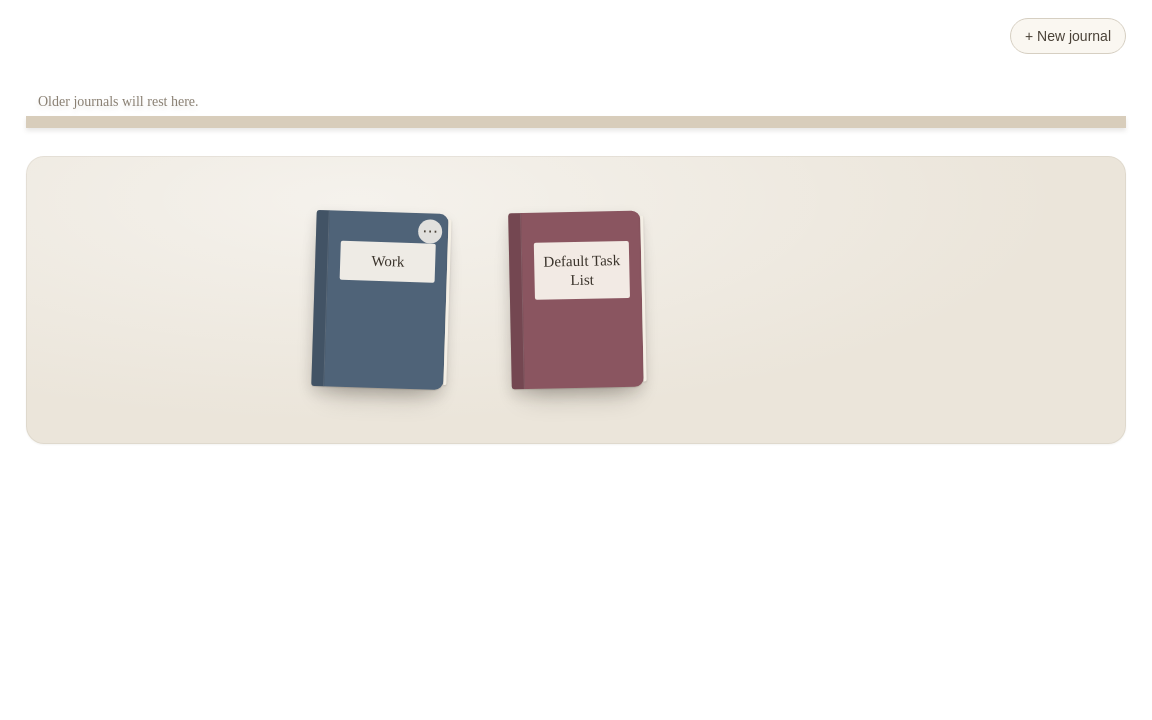
Test case: deleting journals › confirming deletes the journal and removes it from the desk
The width and height of the screenshot is (1152, 720).
Click the button named "Actions for Work". click: point(430, 232)
box: [418,219,442,244]
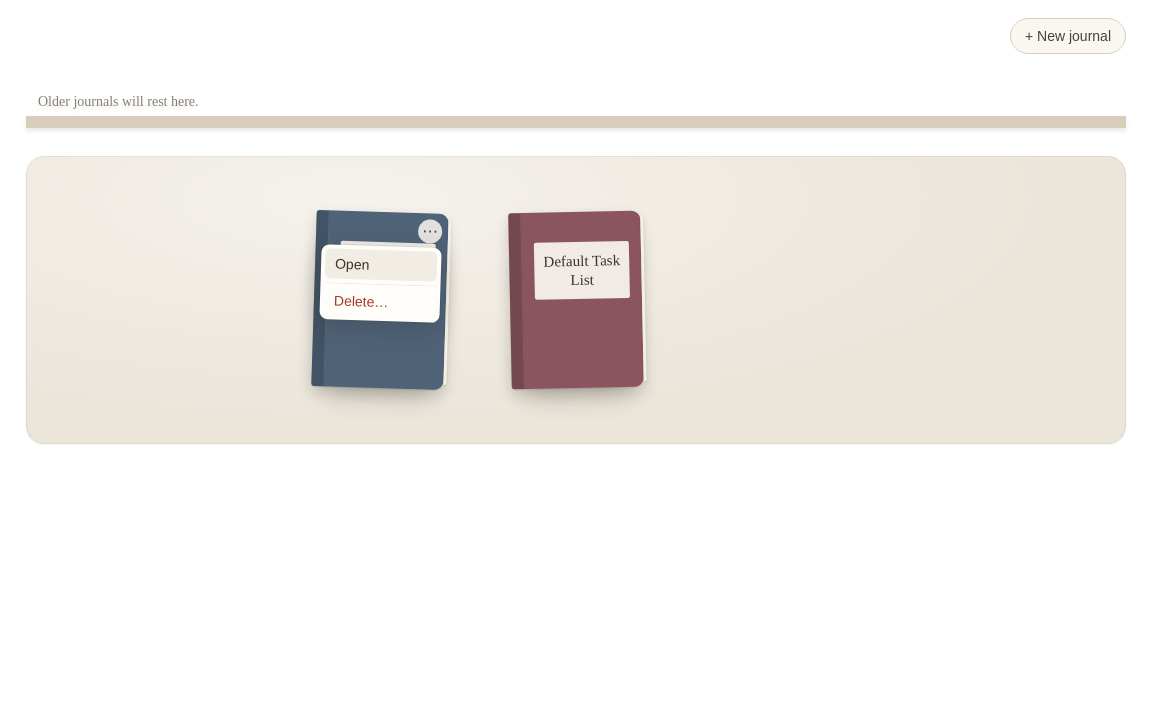
Click the menu item "Delete…". click: point(380, 300)
box: [324,282,436,319]
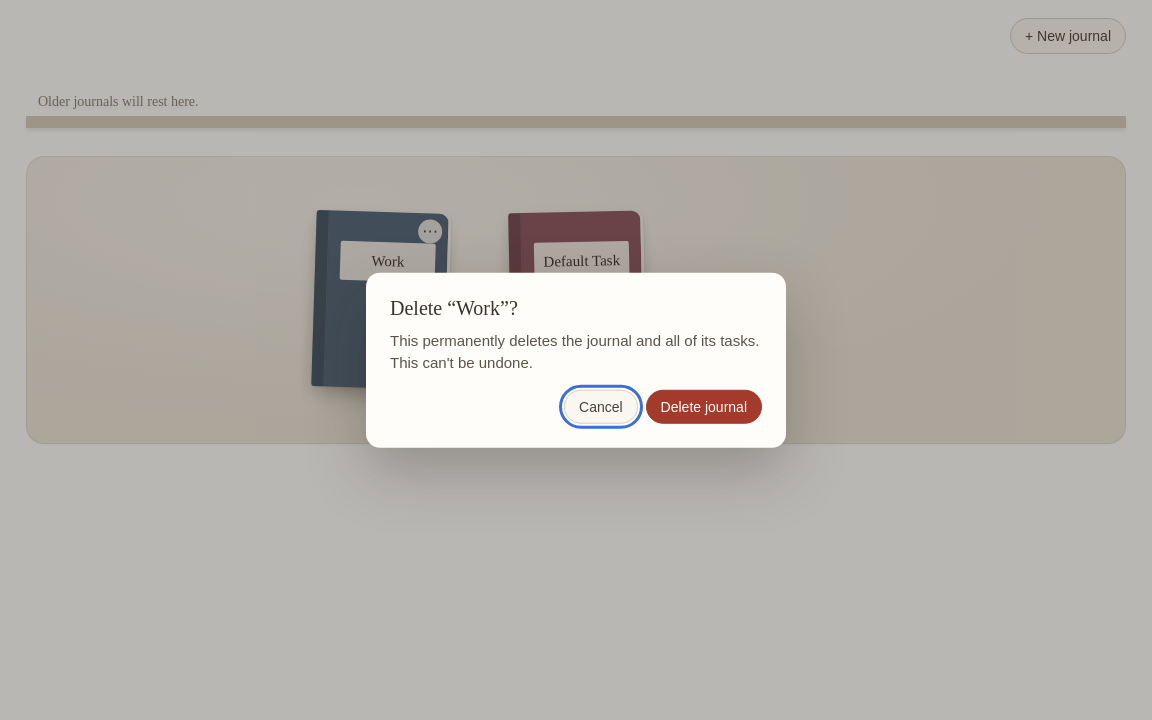
Click the button "Delete journal". click: point(704, 406)
box: [646,389,762,423]
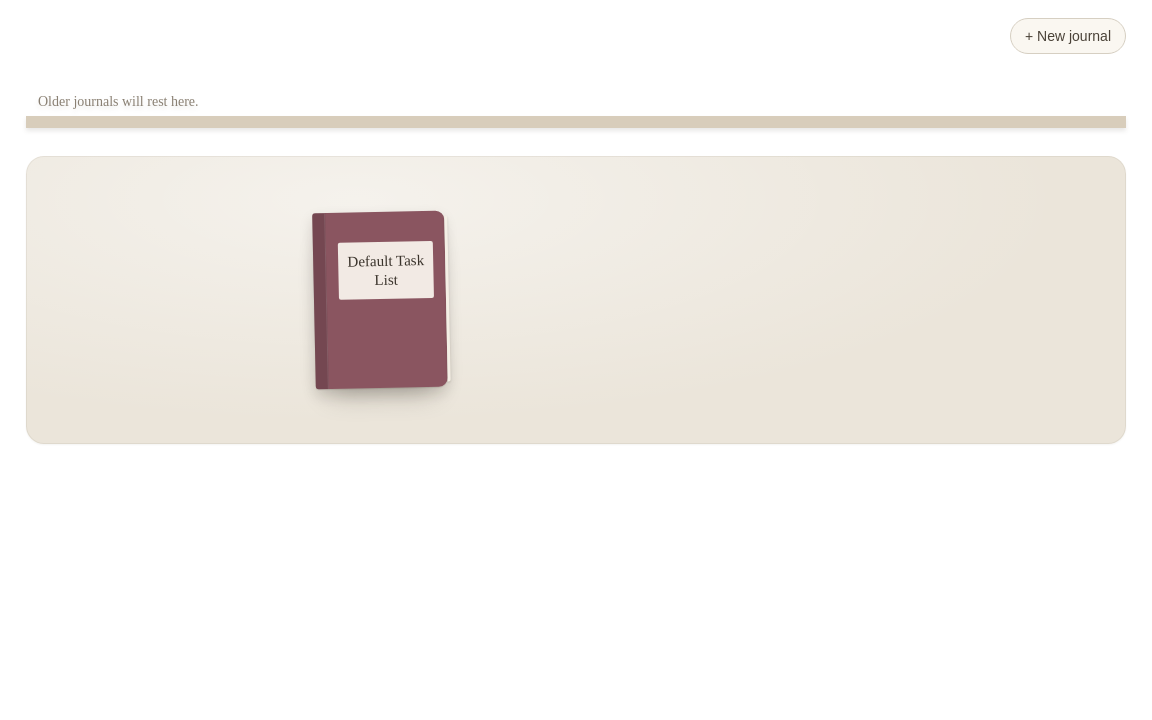
Check: the dialog is gone
Check: the button "Open Work" is gone
